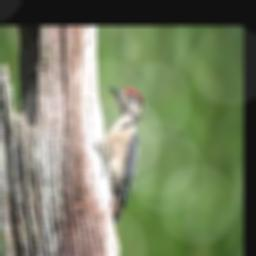Woodpecker: (104, 87, 143, 224)
